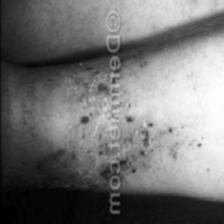Non-Cancerous Skin Condition: (120, 46, 224, 194), (0, 56, 100, 180)
